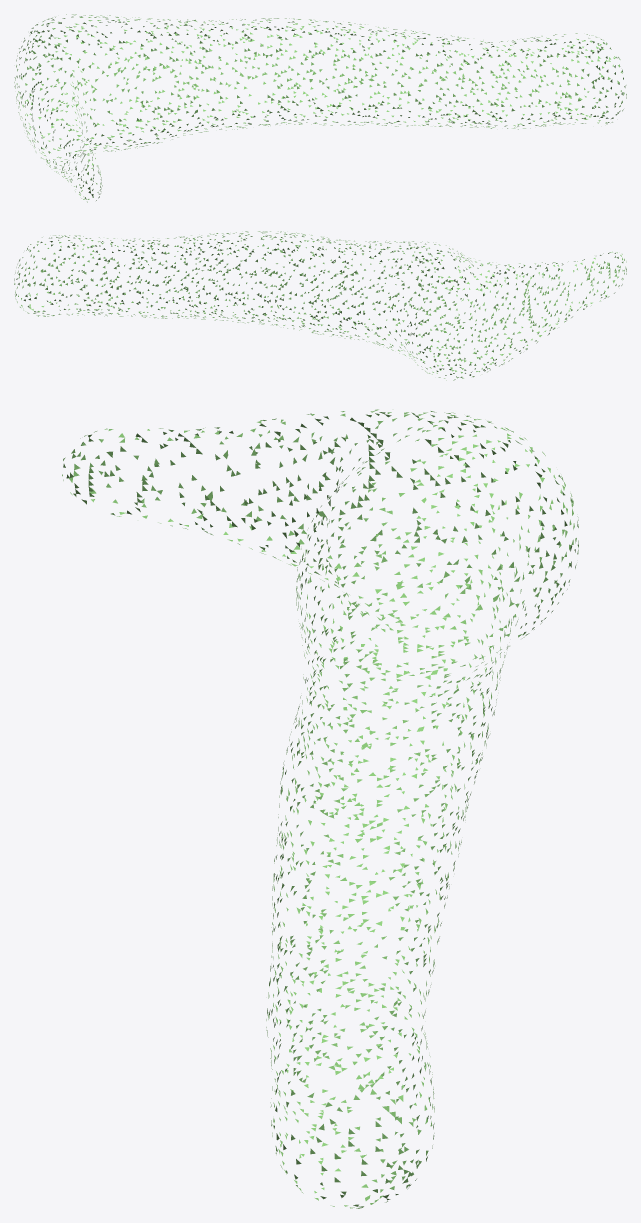
Rendered from morph_015.glb.
The picture shows the model from 3 angles, top to bottom: view 1: azimuth 30°, elevation 25°; view 2: azimuth 150°, elevation 25°; view 3: azimuth 270°, elevation 25°; orthographic projection. The views are drawn at different scales.
Bounding box in the file's own units: 134 × 42.28 × 56.11.
